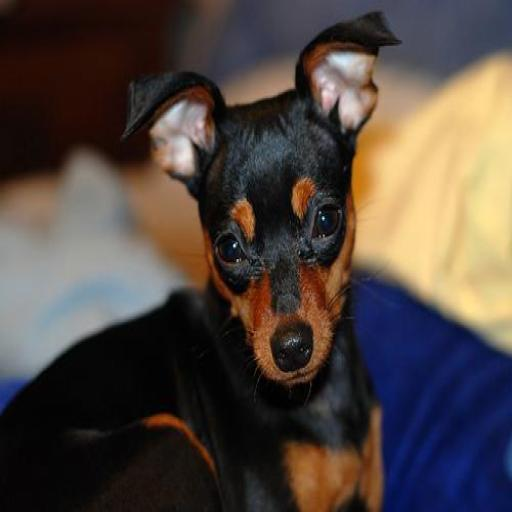dog_face: (136, 18, 374, 387)
